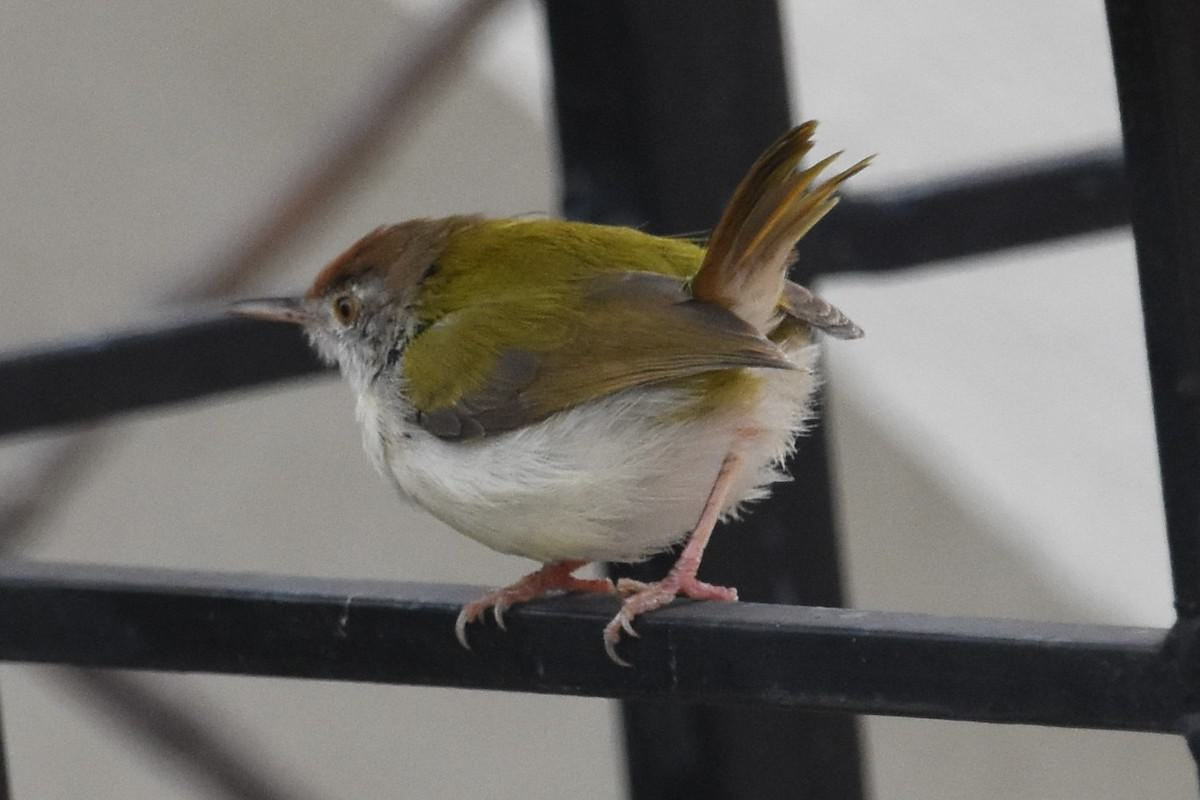tailorbird: (230, 158, 831, 633)
